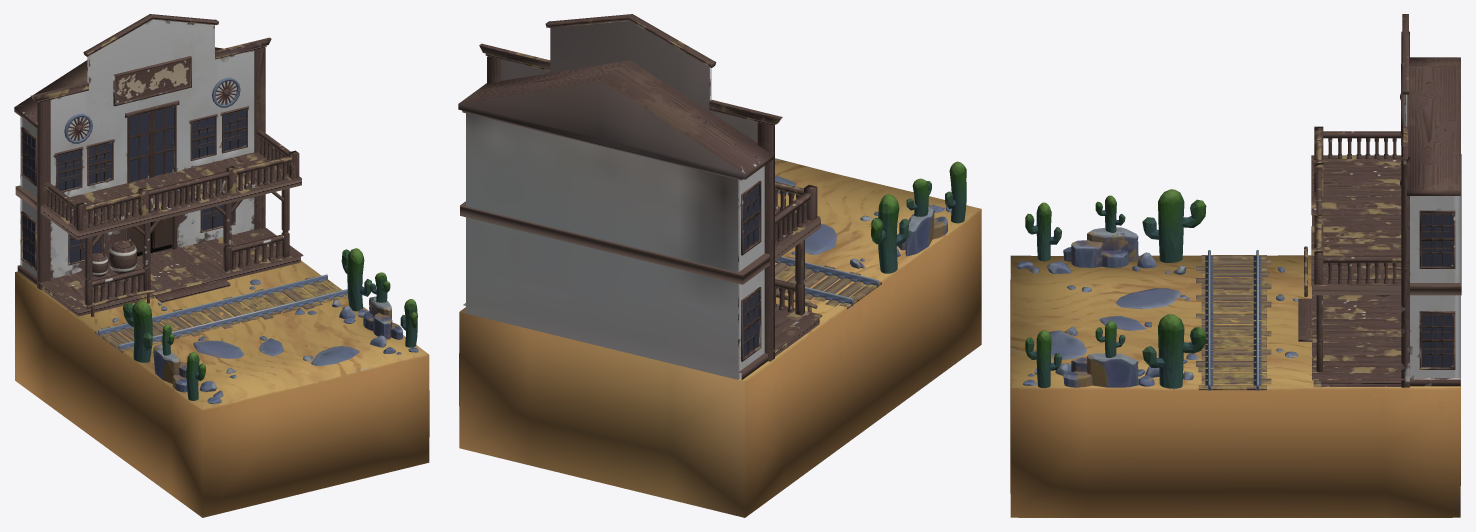
The model's file is WesternMap.glb.
3 views of the same model, side by side, from view 1: azimuth 30°, elevation 25°; view 2: azimuth 150°, elevation 25°; view 3: azimuth 270°, elevation 25° (orthographic). The views are drawn at different scales.
Visible parts, largest first — view 1: Western_Top, Western_Bot, Western_CheminDeFer, Object001, Object006; view 2: Western_Top, Western_Bot, Object006, Western_CheminDeFer; view 3: Western_Bot, Western_Top, Western_CheminDeFer, Object006, Object001.
Boxes of the visible parts, left/top/right/bottom form: Western_Top: left=14, top=14, right=303, bottom=316; Western_Bot: left=15, top=260, right=429, bottom=517; Western_CheminDeFer: left=95, top=274, right=347, bottom=352; Object001: left=341, top=248, right=417, bottom=347; Object006: left=123, top=300, right=205, bottom=400; Western_Top: left=458, top=14, right=822, bottom=379; Western_Bot: left=459, top=158, right=981, bottom=517; Object006: left=871, top=161, right=966, bottom=273; Western_CheminDeFer: left=775, top=256, right=881, bottom=309; Western_Bot: left=1010, top=252, right=1460, bottom=517; Western_Top: left=1298, top=14, right=1461, bottom=387; Western_CheminDeFer: left=1196, top=250, right=1271, bottom=390; Object006: left=1025, top=189, right=1206, bottom=267; Object001: left=1025, top=314, right=1206, bottom=389.
Bounding box in the file's own units: 1.75 × 2.49 × 2.39.
Materials: 2 (2 with a texture image).
